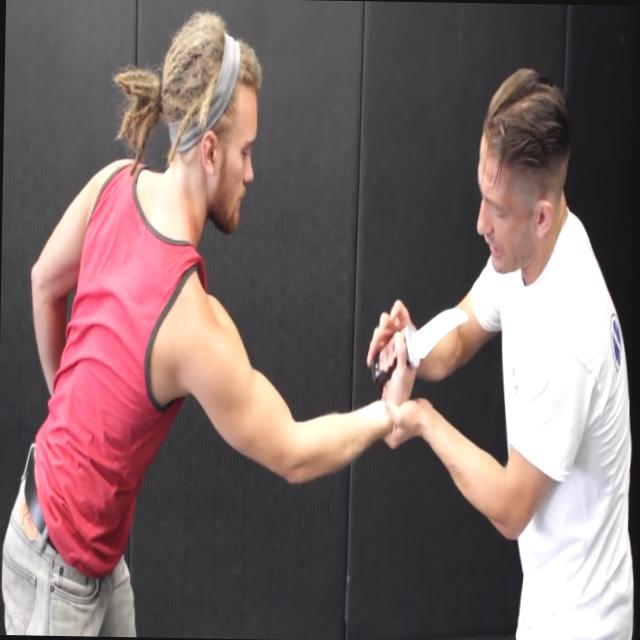knife: (368, 294, 473, 386)
